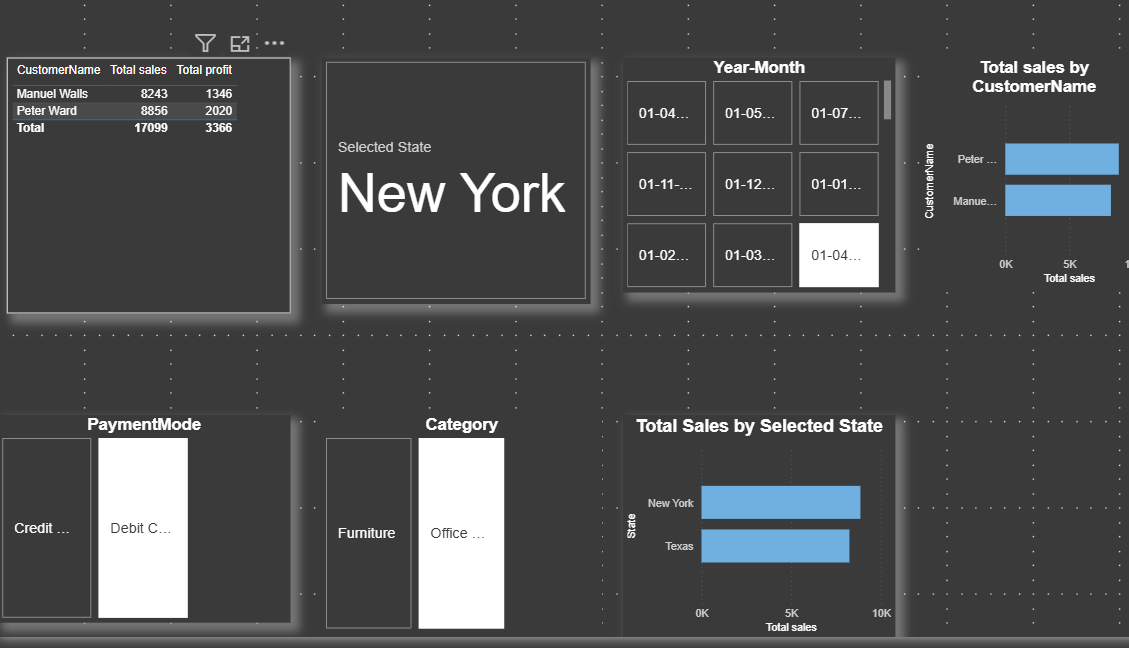

The page's visual inventory and layout, read from the dashboard file:
{"tool":"powerbi","page":{"name":"Page 2","canvas":[1280,720],"ordinal":1},"visuals":[{"type":"tableEx","fields":{"Values":["Sales Dataset.CustomerName","Sales Dataset.Total sales","Sales Dataset.Total profit"]},"box":[9.7,0,315.8,285.2],"z":0},{"type":"cardVisual","fields":{"Data":["Min(Sales Dataset.State)"]},"box":[365.9,11.1,299.1,274.1],"z":2000},{"type":"advancedSlicerVisual","fields":{"Values":["Sales Dataset.Year-Month"]},"box":[695.7,9.7,320,279.7],"z":3000},{"type":"advancedSlicerVisual","fields":{"Values":["Sales Dataset.PaymentMode"]},"box":[0,375.7,325.6,247.7],"z":4000},{"type":"clusteredBarChart","title":"Dynamic title","fields":{"Category":["Sales Dataset.State"],"Y":["Sales Dataset.Total sales"]},"box":[695.7,388.2,303.3,247.7],"z":4001},{"type":"advancedSlicerVisual","fields":{"Values":["Sales Dataset.Category"]},"box":[353.4,375.7,311.7,260.2],"z":4003},{"type":"clusteredBarChart","fields":{"Category":["Sales Dataset.CustomerName"],"Y":["Sales Dataset.Total sales"]},"box":[1025.4,388.2,254.6,249],"z":4004}]}

Visuals, with their boxes on the page's 1280x720 design canvas (x1, y1, x2, y2). These are canvas units, not pixel positions in the 1129x648 screenshot, which may show the page scaled, cropped or inside an application window:
tableEx - Sales Dataset.CustomerName x Sales Dataset.Total sales: box(10, 0, 326, 285)
cardVisual - Min(Sales Dataset.State): box(366, 11, 665, 285)
advancedSlicerVisual - Sales Dataset.Year-Month: box(696, 10, 1016, 289)
advancedSlicerVisual - Sales Dataset.PaymentMode: box(0, 376, 326, 623)
"Dynamic title" clusteredBarChart: box(696, 388, 999, 636)
advancedSlicerVisual - Sales Dataset.Category: box(353, 376, 665, 636)
clusteredBarChart - Sales Dataset.CustomerName x Sales Dataset.Total sales: box(1025, 388, 1280, 637)
